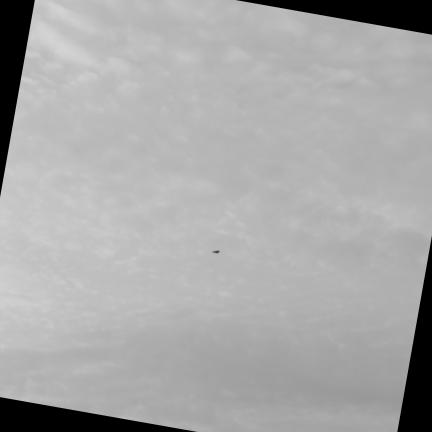Shahed: (212, 250, 219, 253)
